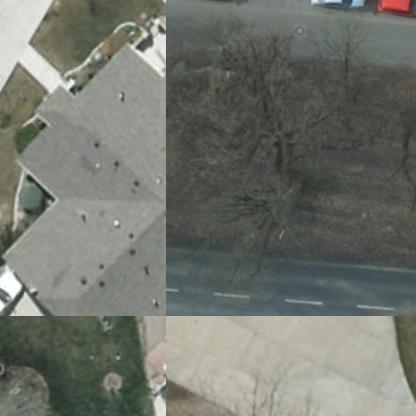car: (369, 0, 415, 34), (305, 0, 364, 25), (0, 266, 26, 315), (167, 0, 233, 19)
